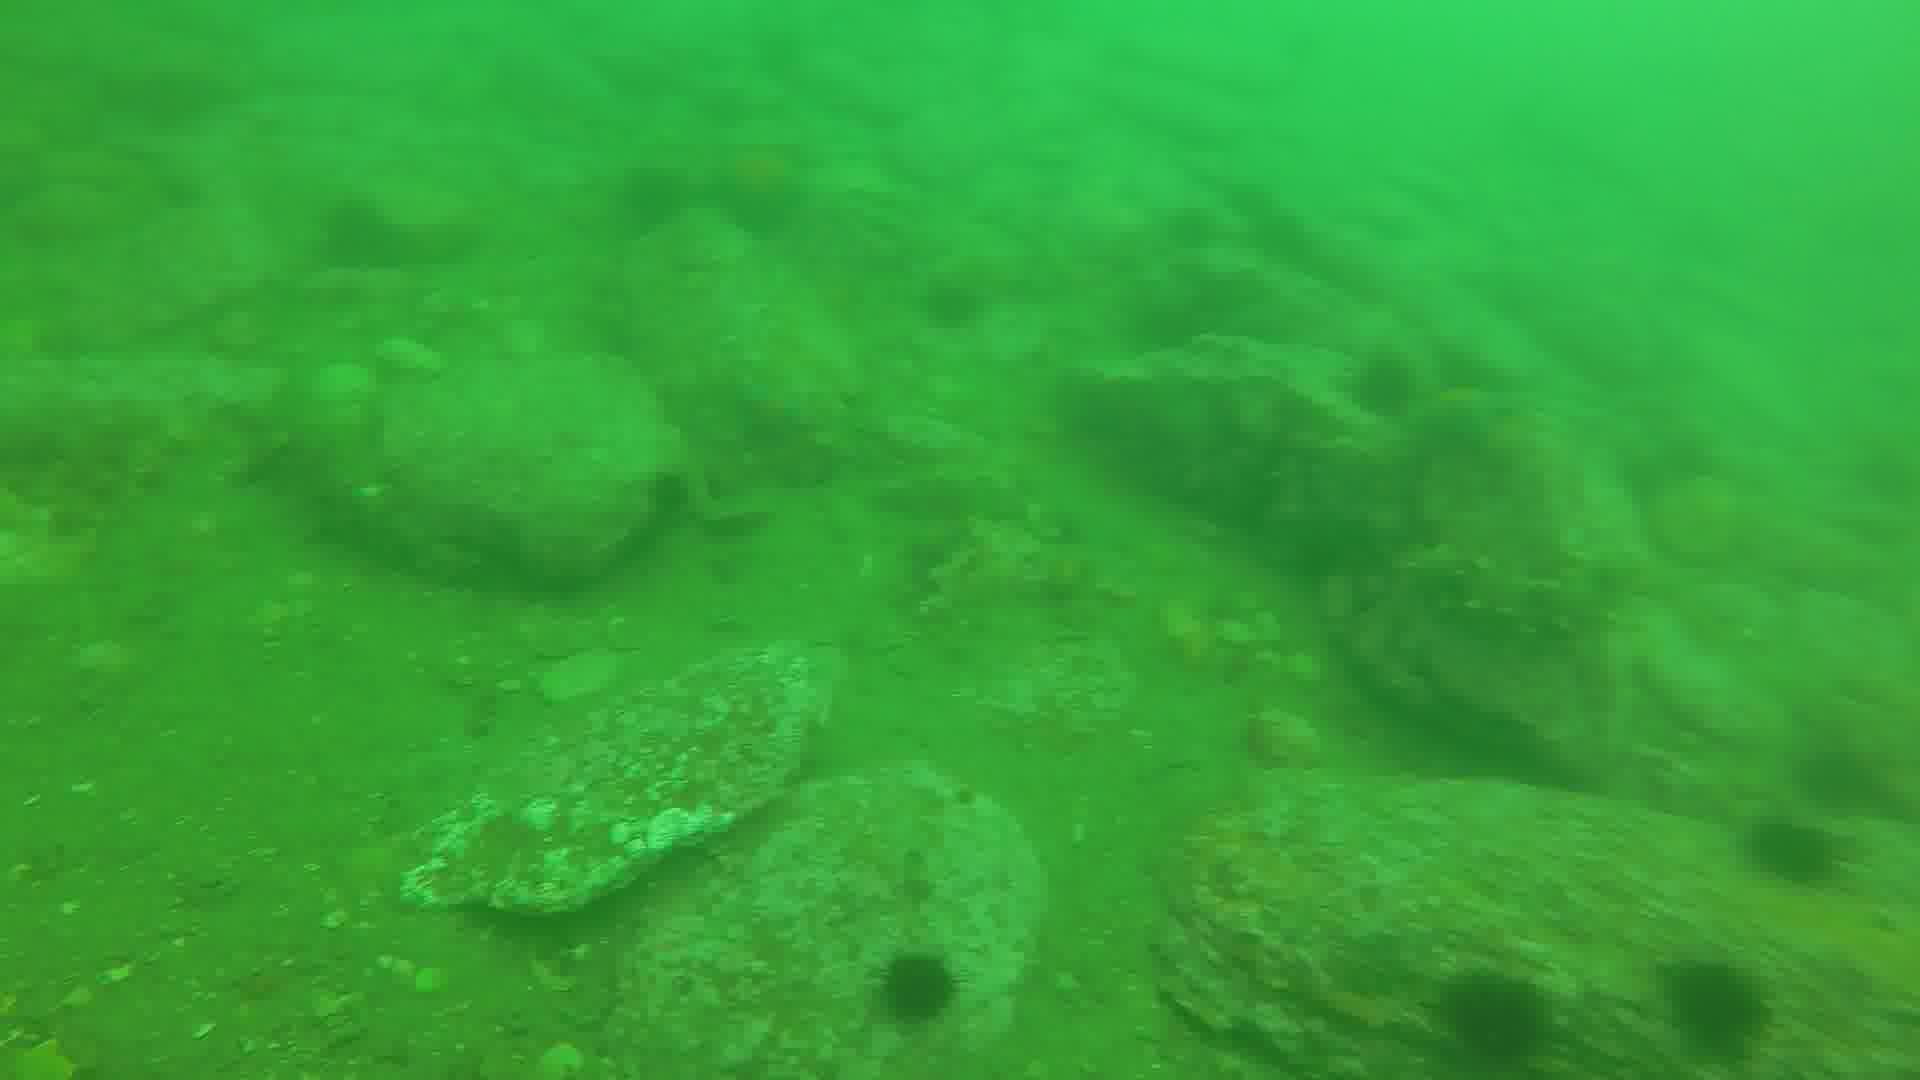echinus: (1673, 959, 1770, 1065), (1448, 978, 1551, 1065), (1747, 822, 1849, 897), (1349, 355, 1422, 427), (887, 957, 959, 1021)
